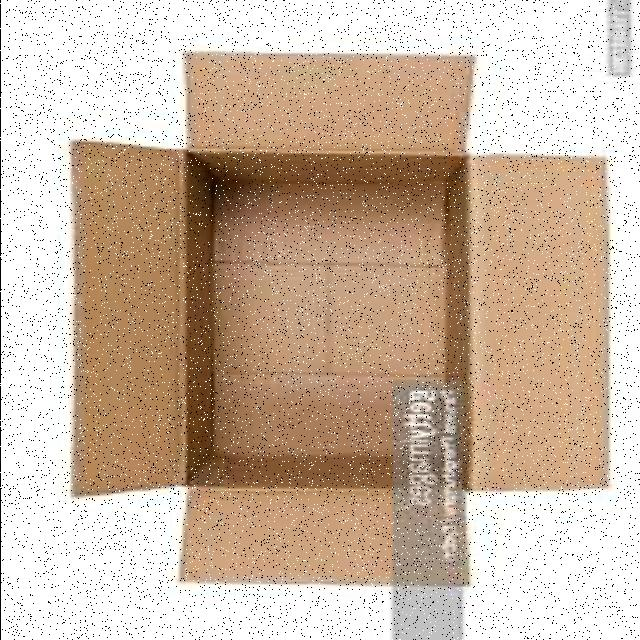defect: (63, 42, 612, 593)
